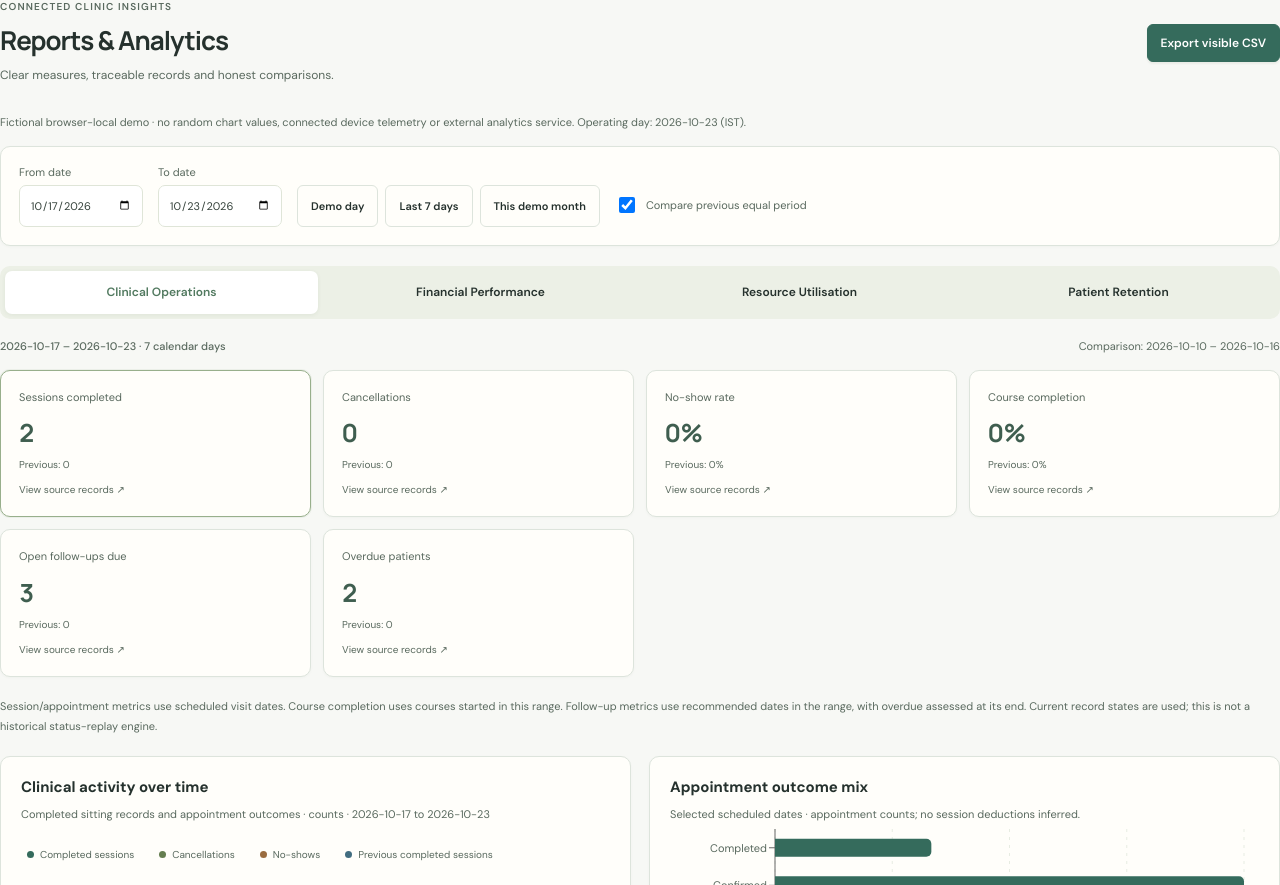
Test case: analytics interactions › drills into source records from a KPI and chart legend
Click the button "Sessions completed 2 Previous: 0 View source records ↗" at coordinates (70, 397), box [0, 370, 311, 517]
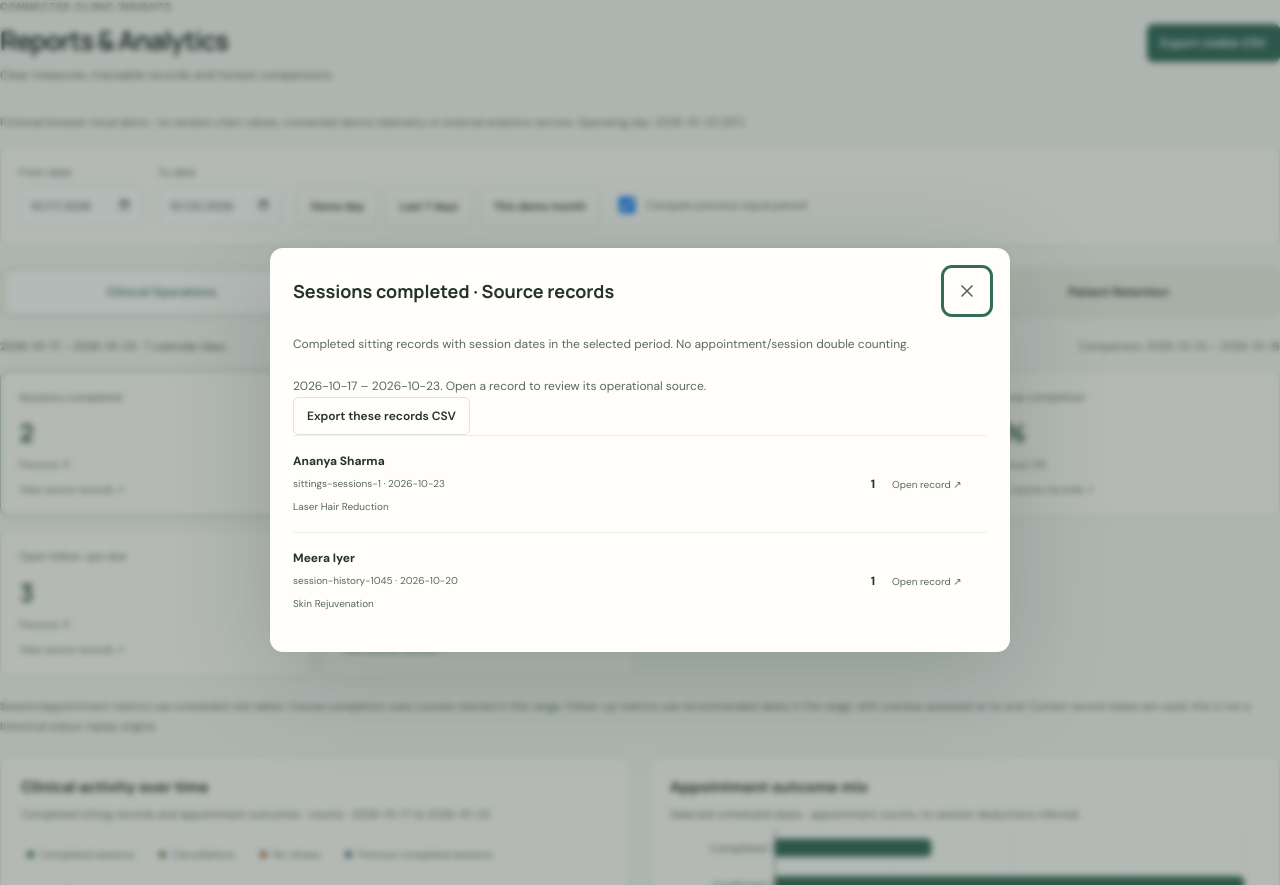
expect the text "Completed sitting records" is shown: met, box [293, 336, 909, 352]
expect the link that starts with "Ananya Sharma" is shown: met, box [293, 435, 987, 532]
Click the button named "Close" at coordinates (967, 291), box [947, 271, 987, 311]
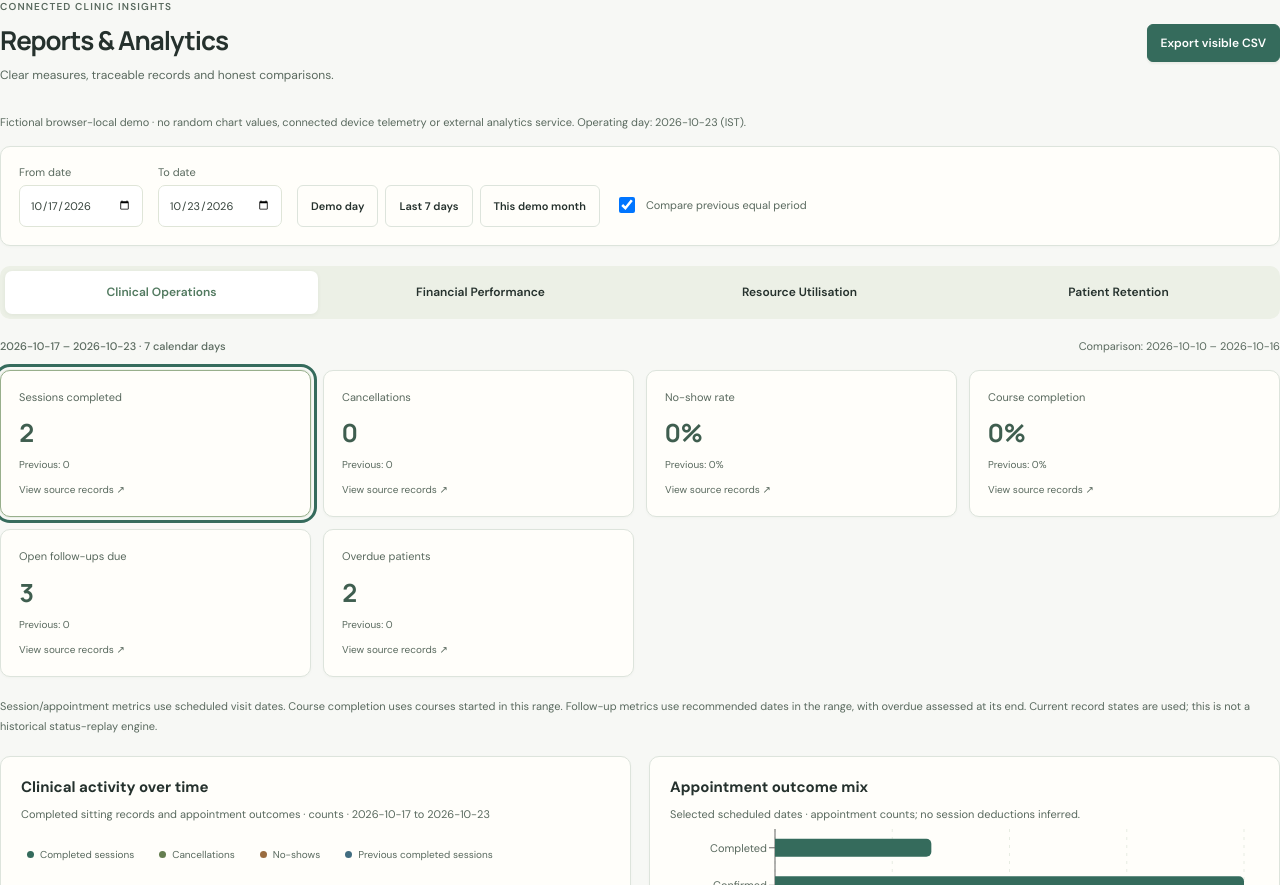
Click the button with aria-label "View records for Cancellations" at coordinates (197, 854), box [153, 839, 241, 869]
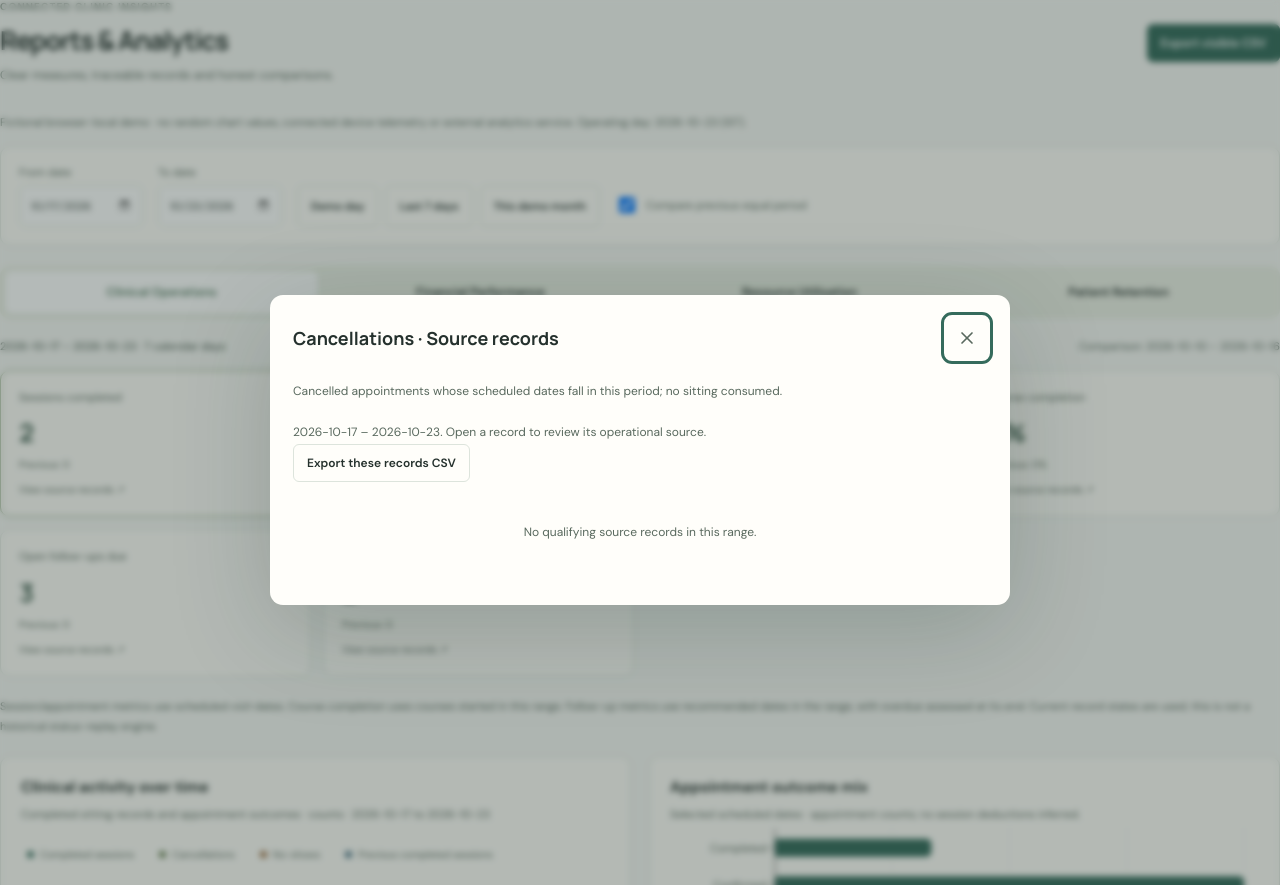
expect the text "No qualifying source records in this range." is shown: met, box [524, 524, 756, 540]
